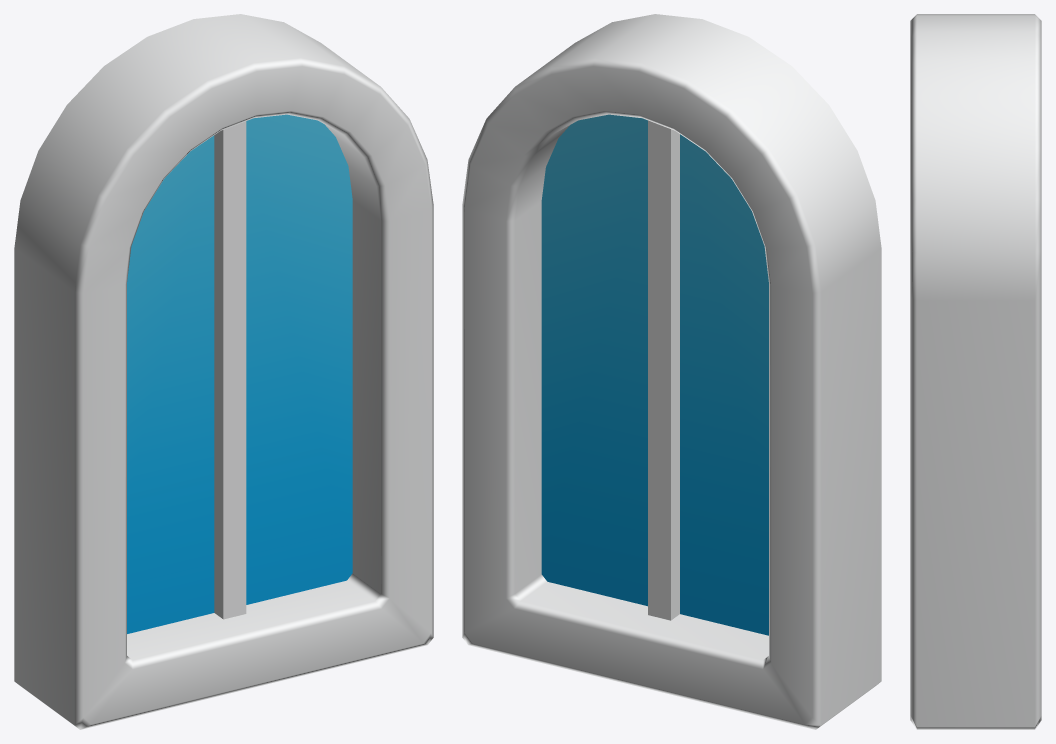
Rendered from Window_White_14.glb.
3 renders of one model, left to right at view 1: azimuth 30°, elevation 25°; view 2: azimuth 150°, elevation 25°; view 3: azimuth 270°, elevation 25°, orthographic.
Visible parts, largest first — view 1: Window_White_14; view 2: Window_White_14; view 3: Window_White_14.
Part boxes in pixels (left/top/right/bottom): Window_White_14: left=14, top=14, right=433, bottom=729; Window_White_14: left=462, top=14, right=881, bottom=729; Window_White_14: left=910, top=14, right=1041, bottom=729.
Size of the model in its own units: 1.24 by 2.07 by 0.4.
2 materials, 2 textured.
